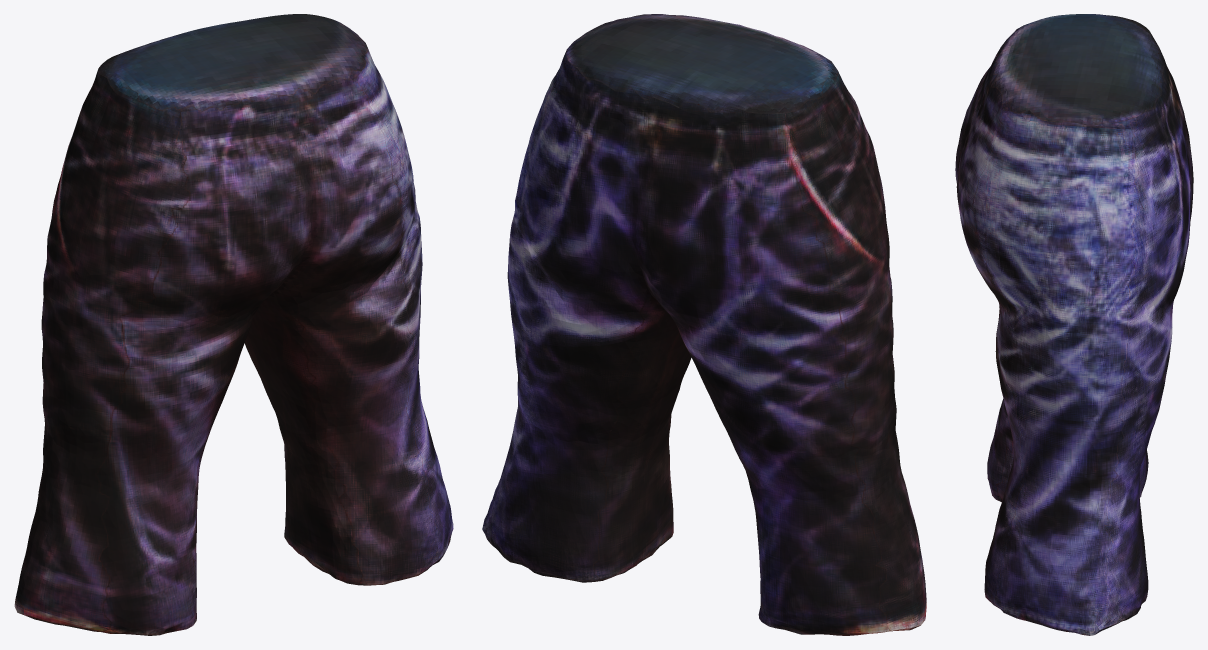
File: a pair of shorts.glb
3 renders of one model, left to right at view 1: azimuth 30°, elevation 25°; view 2: azimuth 150°, elevation 25°; view 3: azimuth 270°, elevation 25°, orthographic. The views are drawn at different scales.
Bounding box in the file's own units: 0.7284 × 0.8619 × 0.3781.
1 material, 1 textured.
